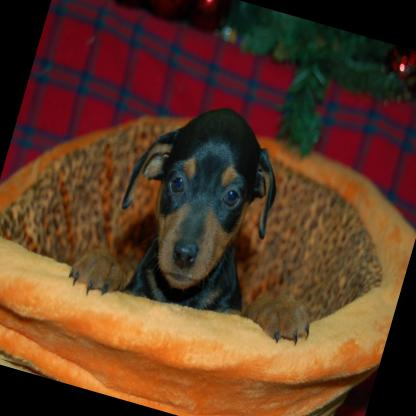miniature_pinscher: (64, 76, 364, 357)
